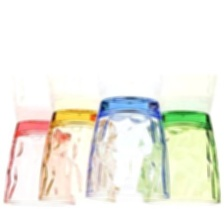glass: (82, 92, 171, 205), (140, 102, 222, 211), (36, 105, 120, 206), (2, 115, 82, 208)
